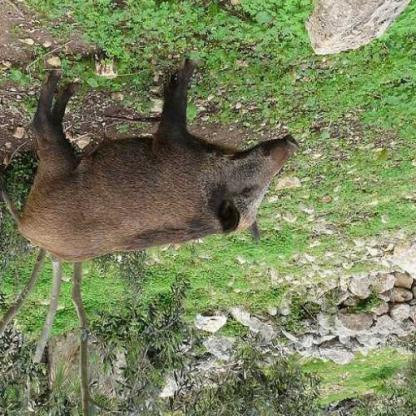boar: (0, 23, 332, 287)
